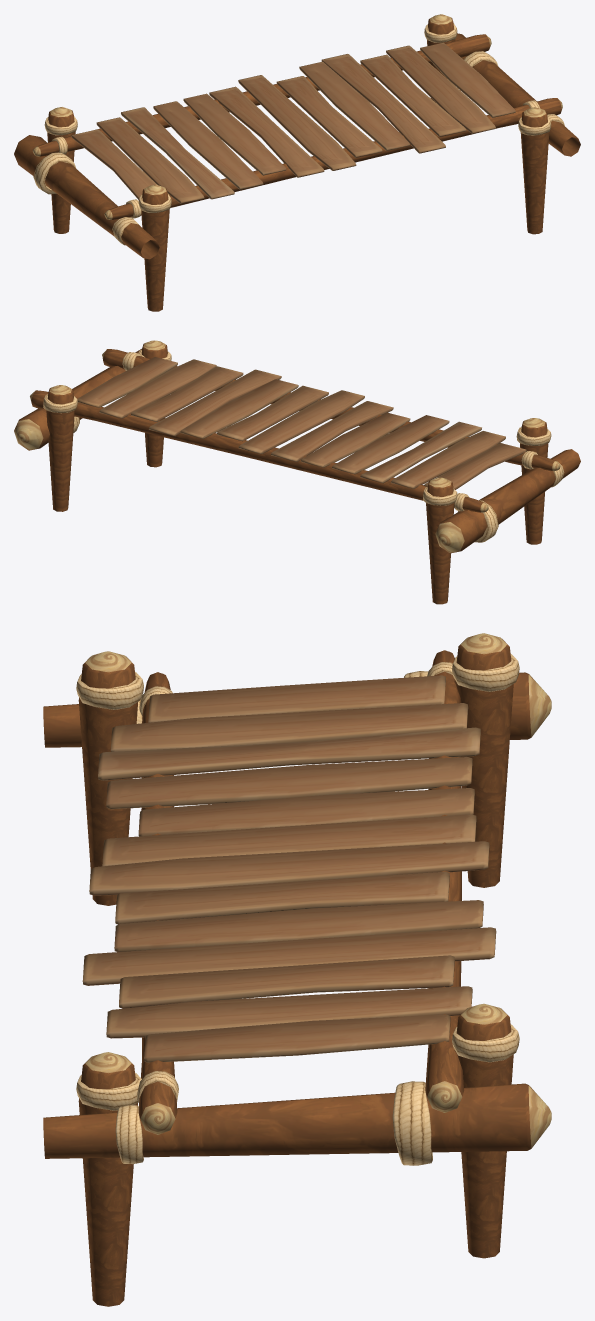
The model's file is Crankshaft_Base.fbx.
The picture shows the model from 3 angles, top to bottom: view 1: azimuth 30°, elevation 25°; view 2: azimuth 150°, elevation 25°; view 3: azimuth 270°, elevation 25°; orthographic projection. The views are drawn at different scales.
Visible parts, largest first — view 1: polySurface911; view 2: polySurface911; view 3: polySurface911.
Part boxes in pixels (left/top/right/bottom): polySurface911: left=14, top=14, right=580, bottom=311; polySurface911: left=14, top=340, right=580, bottom=604; polySurface911: left=43, top=633, right=551, bottom=1306.
Bounding box in the file's own units: 74.19 × 22.62 × 35.5.
